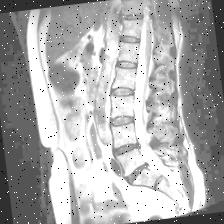disc: (106, 82, 136, 102), (113, 54, 140, 74), (117, 28, 141, 46), (120, 8, 146, 24)
hdisc: (120, 162, 154, 186), (111, 138, 142, 160), (110, 111, 136, 129)
